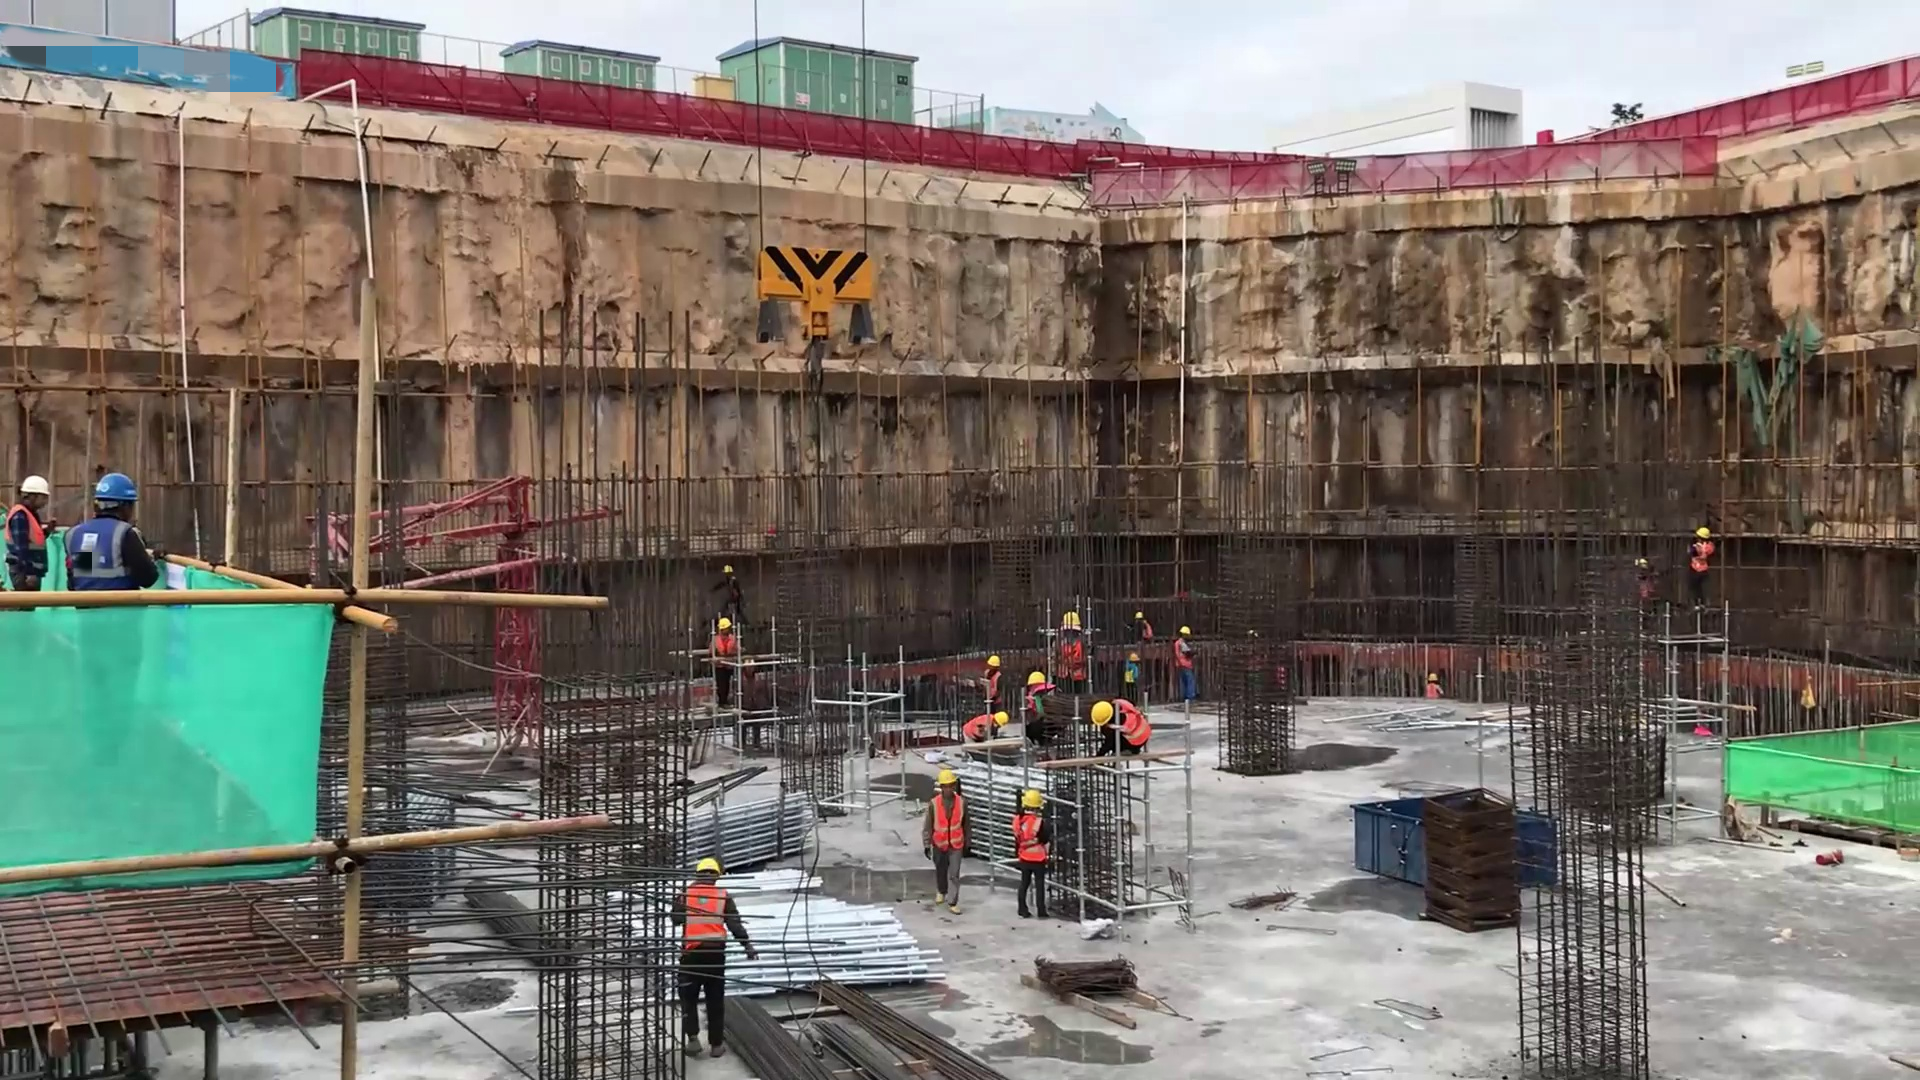helmet: (94, 472, 138, 503), (18, 474, 50, 499), (1091, 700, 1114, 729), (1022, 789, 1043, 812), (694, 857, 722, 873), (938, 769, 958, 786), (1061, 610, 1083, 627), (995, 710, 1010, 729), (986, 653, 1002, 668), (1027, 672, 1046, 686), (1696, 527, 1711, 540), (716, 618, 732, 630), (720, 563, 734, 574)
person: (64, 469, 162, 592), (676, 859, 765, 988), (920, 764, 978, 916), (6, 470, 51, 612), (1015, 787, 1058, 922), (1091, 690, 1155, 764), (1051, 605, 1096, 688), (706, 619, 747, 710), (1683, 521, 1718, 610), (1173, 624, 1201, 717), (1017, 671, 1058, 734), (714, 561, 746, 620), (975, 646, 1004, 709), (959, 711, 1008, 742), (1118, 648, 1143, 696), (1135, 610, 1158, 650), (1418, 667, 1446, 698)
vest: (67, 519, 145, 591), (682, 882, 730, 954), (6, 503, 49, 584), (929, 793, 968, 856), (1116, 702, 1153, 753), (1019, 815, 1047, 866), (708, 632, 738, 658), (1174, 638, 1194, 676), (1692, 542, 1712, 575), (965, 715, 994, 735)
